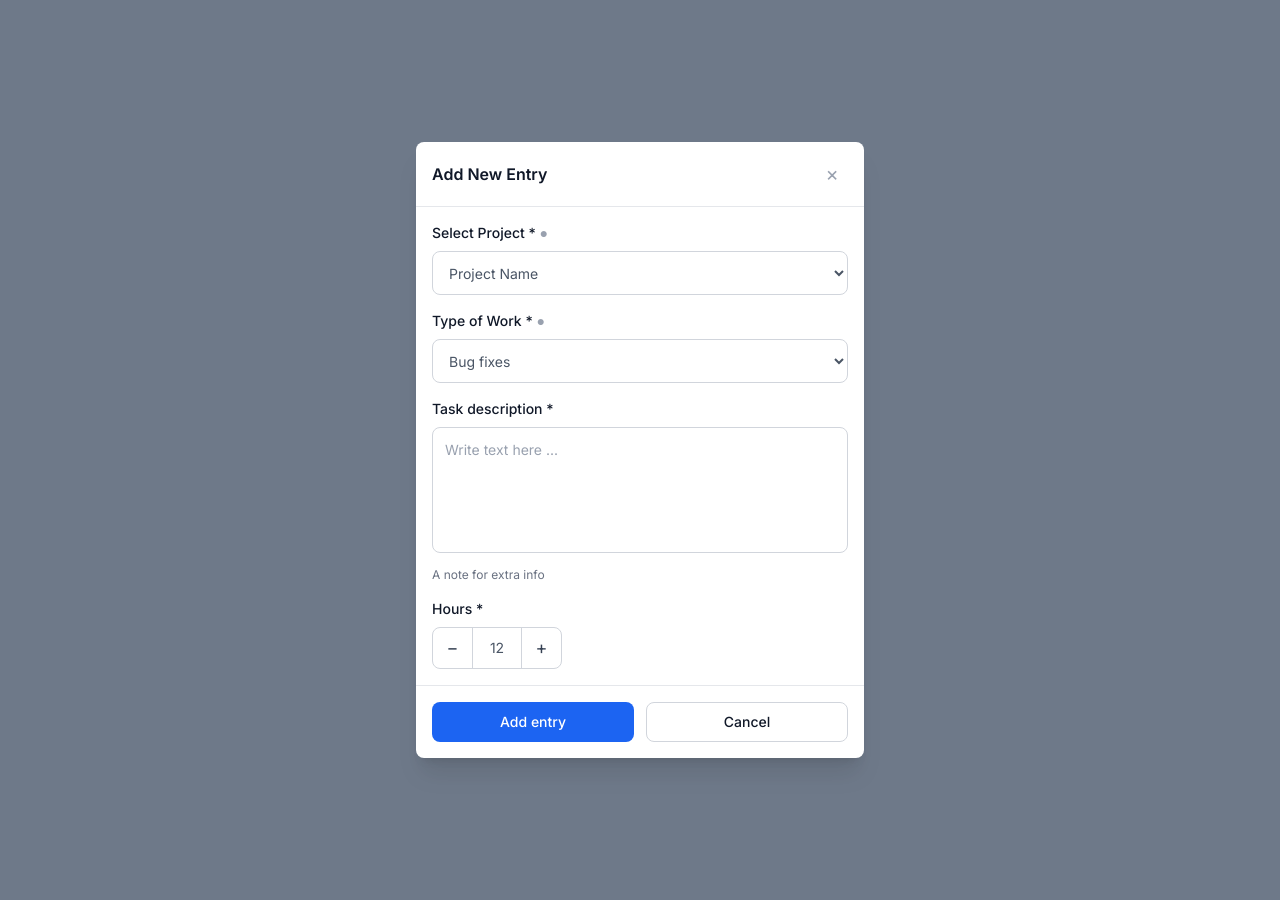
Test case: TimesheetEntryModal › shows validation errors for missing required fields
Click the button "Add entry". click: (533, 722)
box: [432, 702, 634, 742]
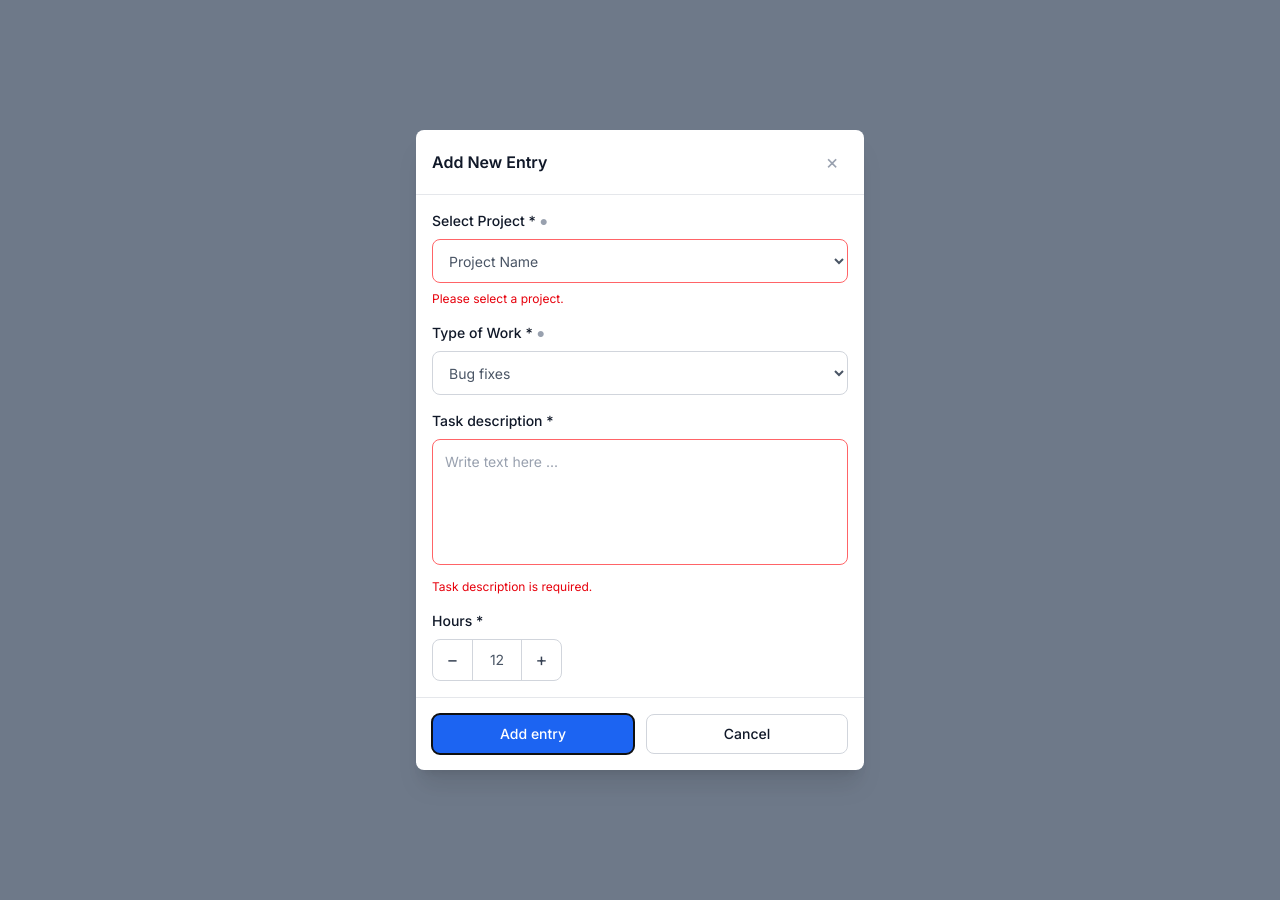
Expected: the text "Please select a project." is shown, [432, 291, 564, 306]
Expected: the text "Task description is required." is shown, [432, 579, 592, 594]
